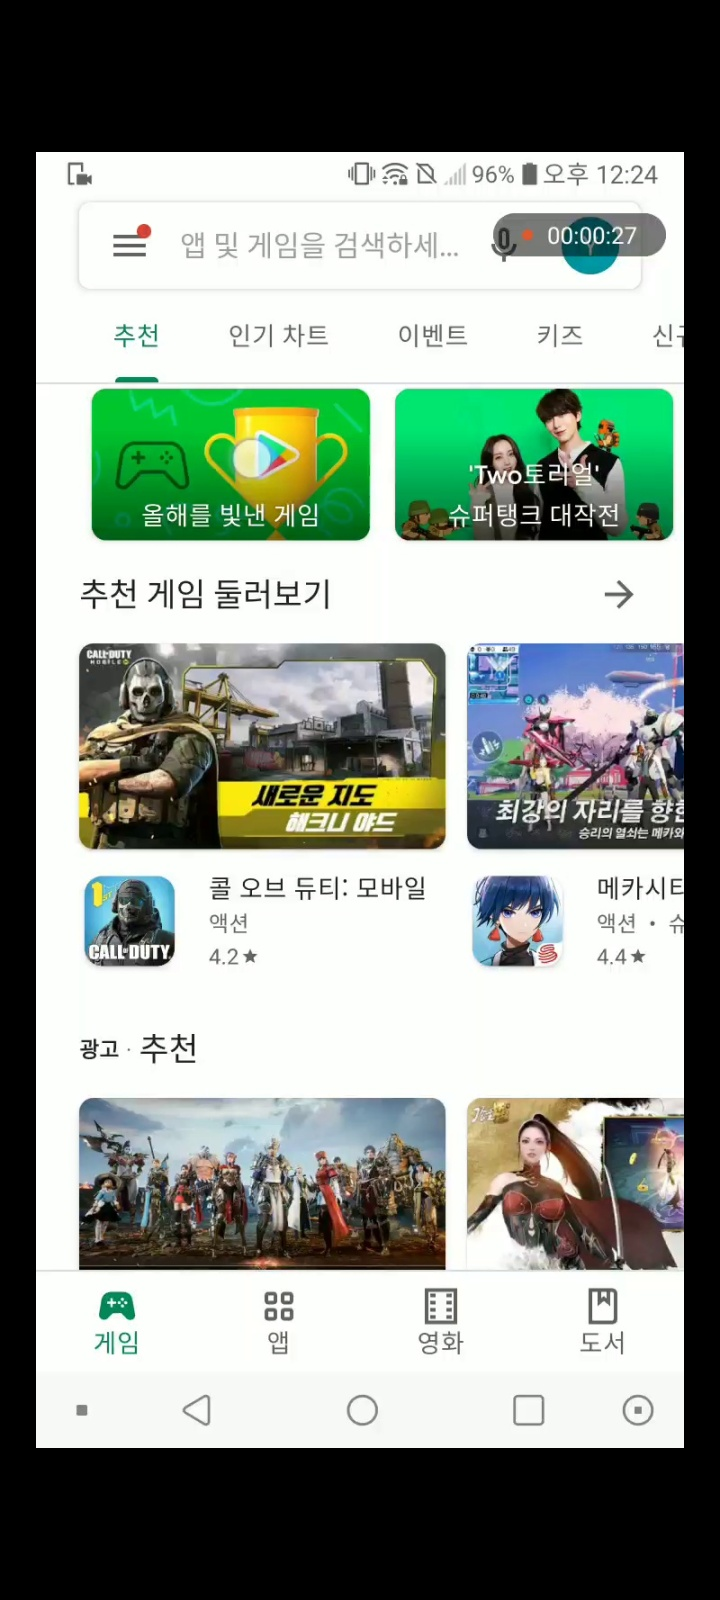Cursor: (232, 435, 276, 480)
